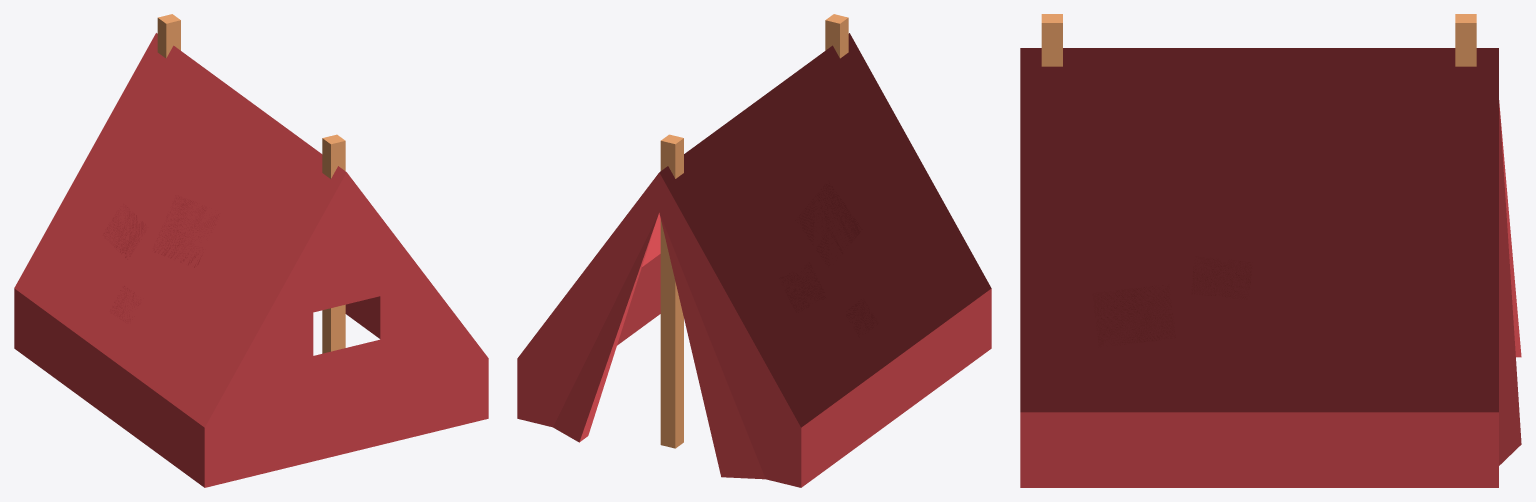
Rendered from tent_smallOpen.obj.
The picture shows the model from 3 angles, left to right: view 1: azimuth 30°, elevation 25°; view 2: azimuth 150°, elevation 25°; view 3: azimuth 270°, elevation 25°; orthographic projection. The views are drawn at different scales.
Parts seen in each view (by area): view 1: tent_smallOpen; view 2: tent_smallOpen; view 3: tent_smallOpen.
Part boxes in pixels (x1,y1,x2,y2): tent_smallOpen: [14, 14, 488, 487]; tent_smallOpen: [517, 14, 991, 487]; tent_smallOpen: [1020, 14, 1521, 487].
Size of the model in its own units: 5.48 by 5.61 by 6.66.
